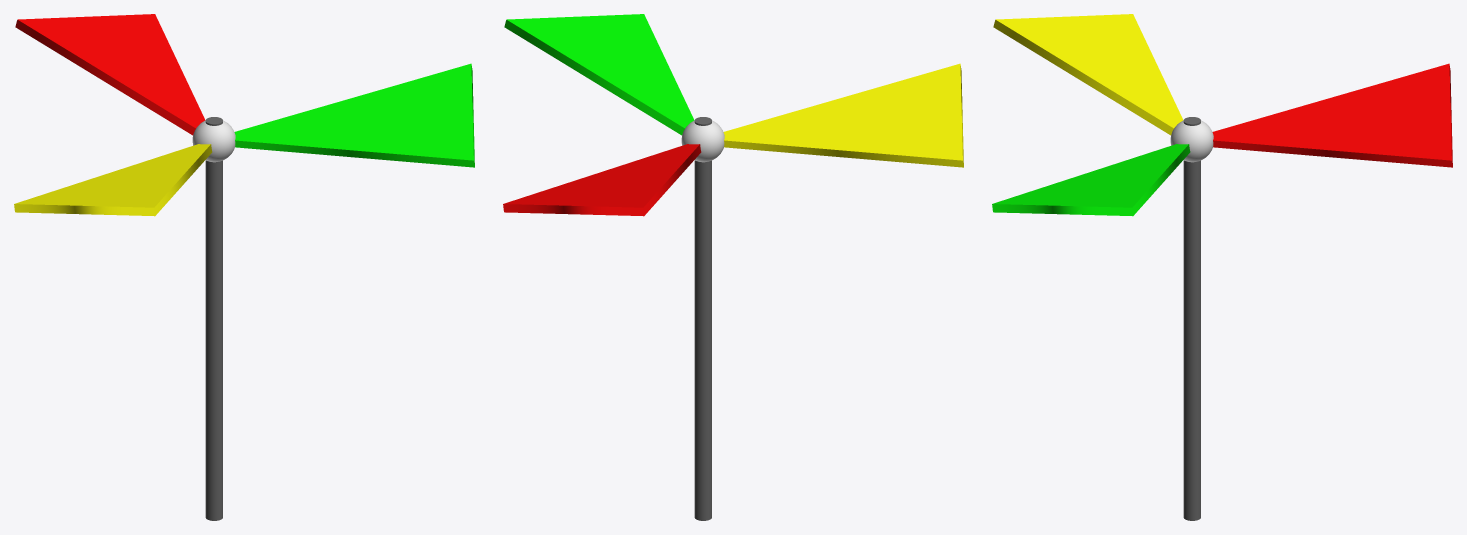
The model's file is helicopter.gltf.
The picture shows the model from 3 angles, left to right: view 1: azimuth 30°, elevation 25°; view 2: azimuth 150°, elevation 25°; view 3: azimuth 270°, elevation 25°; orthographic projection.
Visible parts, largest first — view 1: Cylinder (×4), Sphere; view 2: Cylinder (×4), Sphere; view 3: Cylinder (×4), Sphere.
Part boxes in pixels (left/top/right/bottom): Cylinder (×4): left=14, top=14, right=474, bottom=520; Sphere: left=192, top=120, right=235, bottom=162; Cylinder (×4): left=503, top=14, right=963, bottom=520; Sphere: left=681, top=120, right=724, bottom=162; Cylinder (×4): left=992, top=14, right=1452, bottom=520; Sphere: left=1170, top=120, right=1213, bottom=162.
Bounding box in the file's own units: 1.21 × 1.06 × 1.05.
